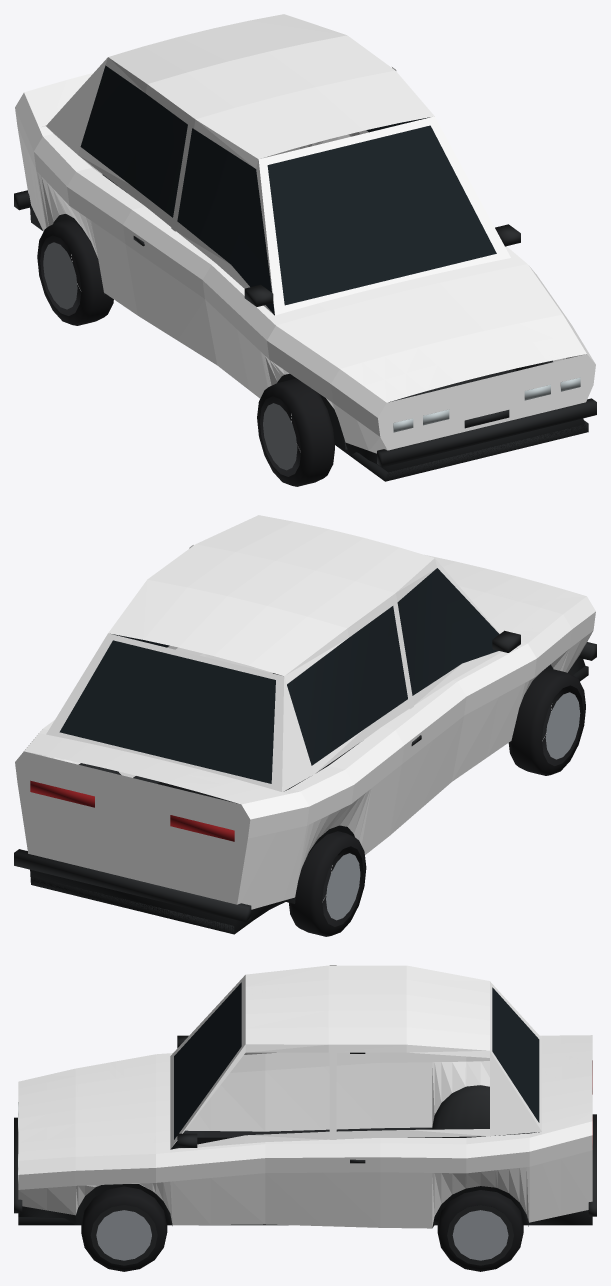
The model's file is tomoe_mirtilo.glb.
The picture shows the model from 3 angles, top to bottom: view 1: azimuth 30°, elevation 25°; view 2: azimuth 150°, elevation 25°; view 3: azimuth 270°, elevation 25°; orthographic projection. The views are drawn at different scales.
Visible parts, largest first — view 1: Body_Paint, Body_Details, Mount_FrontLeft_Wheel_Details, Mount_RearLeft_Wheel_Details; view 2: Body_Paint, Body_Details, Mount_FrontLeft_Wheel_Details, Mount_RearLeft_Wheel_Details; view 3: Body_Paint, Body_Details, Mount_FrontRight_Wheel_Details, Mount_RearRight_Wheel_Details.
Boxes of the visible parts, <box> form: Body_Paint: <box>15,14,595,453</box>; Body_Details: <box>14,65,596,481</box>; Mount_FrontLeft_Wheel_Details: <box>257,379,334,486</box>; Mount_RearLeft_Wheel_Details: <box>37,219,113,325</box>; Body_Paint: <box>15,515,595,909</box>; Body_Details: <box>14,568,596,934</box>; Mount_FrontLeft_Wheel_Details: <box>508,668,585,775</box>; Mount_RearLeft_Wheel_Details: <box>289,831,366,936</box>; Body_Paint: <box>18,965,592,1228</box>; Body_Details: <box>14,982,596,1227</box>; Mount_FrontRight_Wheel_Details: <box>81,1186,167,1271</box>; Mount_RearRight_Wheel_Details: <box>437,1190,523,1271</box>.
Size of the model in its own units: 1.75 by 1.55 by 3.8.
2 materials, 1 textured.
